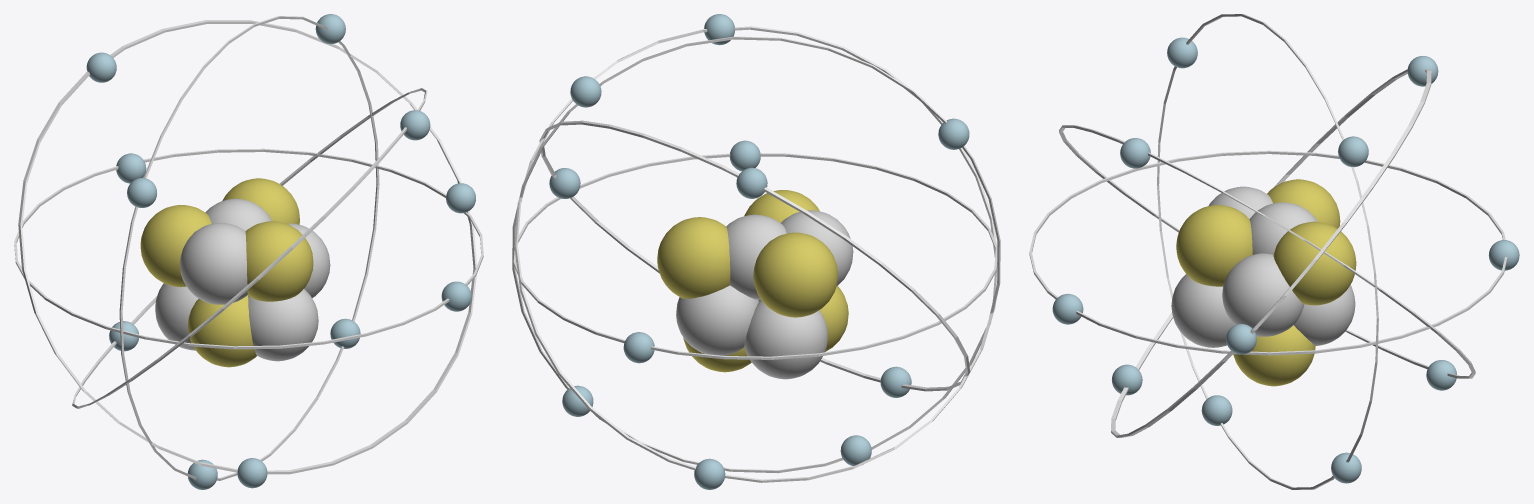
File: _rutherford.fbx
3 renders of one model, left to right at view 1: azimuth 30°, elevation 25°; view 2: azimuth 150°, elevation 25°; view 3: azimuth 270°, elevation 25°, orthographic. The views are drawn at different scales.
Visible parts, largest first — view 1: Circle.002, Sphere.004, Sphere.008, Circle, Sphere.010, Circle.001, Sphere.005, Sphere, Circle.003, Sphere.013, Sphere.002, Sphere.003 (+13 smaller); view 2: Sphere.005, Sphere.013, Circle.003, Circle.001, Sphere.007, Circle, Circle.002, Sphere.003, Sphere.002, Sphere.004, Sphere.001, Sphere.008 (+13 smaller); view 3: Sphere.013, Sphere.008, Sphere.012, Circle, Circle.002, Sphere.010, Circle.001, Sphere.006, Circle.003, Sphere.007, Sphere.002, Sphere.005 (+12 smaller).
Boxes of the visible parts, bbox=[...] form: Circle.002: bbox=[18, 20, 476, 474]; Sphere.004: bbox=[180, 222, 247, 304]; Sphere.008: bbox=[245, 221, 313, 301]; Circle: bbox=[14, 148, 483, 349]; Sphere.010: bbox=[248, 289, 318, 361]; Circle.001: bbox=[119, 16, 379, 480]; Sphere.005: bbox=[140, 205, 211, 287]; Sphere: bbox=[188, 295, 256, 367]; Circle.003: bbox=[72, 88, 427, 408]; Sphere.013: bbox=[222, 178, 299, 224]; Sphere.002: bbox=[205, 198, 271, 230]; Sphere.003: bbox=[155, 283, 198, 325]; Sphere.005: bbox=[753, 232, 837, 317]; Sphere.013: bbox=[657, 217, 730, 298]; Circle.003: bbox=[514, 26, 997, 482]; Circle.001: bbox=[512, 36, 1000, 473]; Sphere.007: bbox=[676, 285, 758, 355]; Circle: bbox=[513, 153, 997, 359]; Circle.002: bbox=[539, 120, 970, 391]; Sphere.003: bbox=[745, 301, 827, 353]; Sphere.002: bbox=[726, 214, 786, 299]; Sphere.004: bbox=[781, 210, 853, 285]; Sphere.001: bbox=[744, 336, 827, 379]; Sphere.008: bbox=[744, 190, 819, 222]; Sphere.013: bbox=[1273, 221, 1356, 305]; Sphere.008: bbox=[1176, 205, 1252, 286]; Sphere.012: bbox=[1222, 253, 1304, 336]; Circle: bbox=[1029, 150, 1507, 355]; Circle.002: bbox=[1111, 69, 1431, 437]; Sphere.010: bbox=[1171, 274, 1234, 347]; Circle.001: bbox=[1157, 14, 1378, 489]; Sphere.006: bbox=[1233, 325, 1315, 386]; Circle.003: bbox=[1059, 125, 1475, 378]; Sphere.007: bbox=[1294, 285, 1355, 345]; Sphere.002: bbox=[1249, 202, 1317, 254]; Sphere.005: bbox=[1267, 179, 1340, 228].
Bounding box in the file's own units: 1165 × 1148 × 1168.
